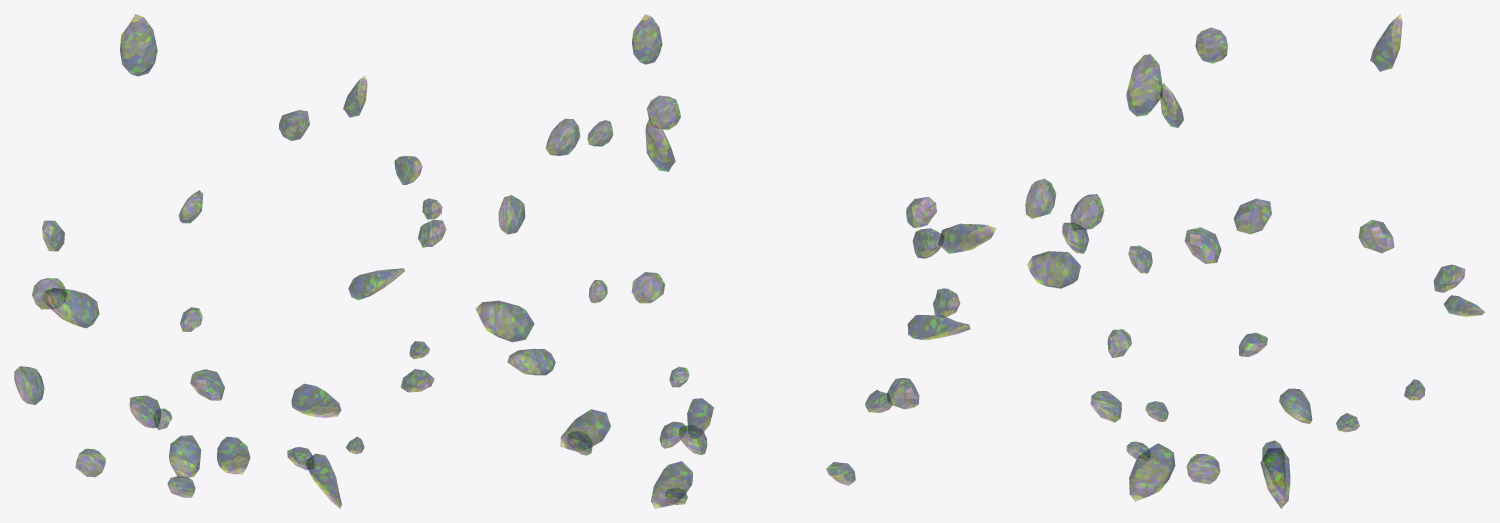
The model's file is crystals.glb.
The picture shows the model from 3 angles, left to right: view 1: azimuth 30°, elevation 25°; view 2: azimuth 150°, elevation 25°; view 3: azimuth 270°, elevation 25°; orthographic projection. The views are drawn at different scales.
Visible parts, largest first — view 1: crystals; view 2: crystals; view 3: crystals.
Boxes of the visible parts, box(x1,y1,x2,y2) form: crystals: box(14, 14, 446, 508); crystals: box(475, 14, 996, 508); crystals: box(1025, 14, 1485, 508).
Bounding box in the file's own units: 4.68 × 4.45 × 4.05.
Materials: 1 (1 with a texture image).
